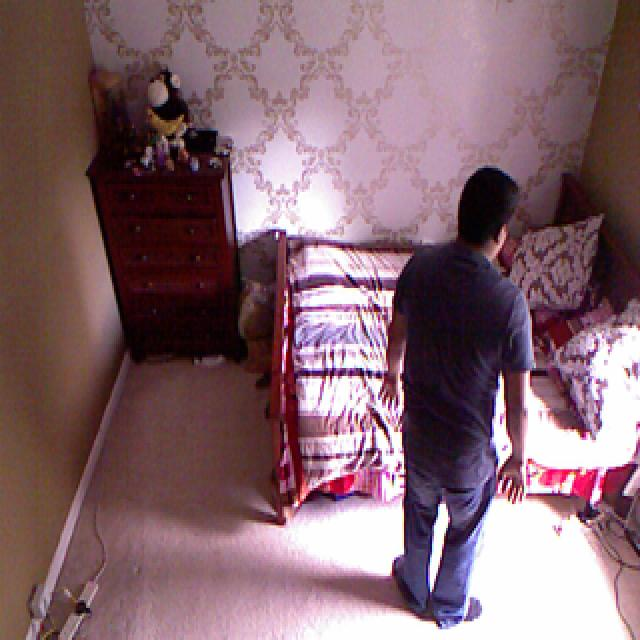standing: (389, 179, 533, 640)
